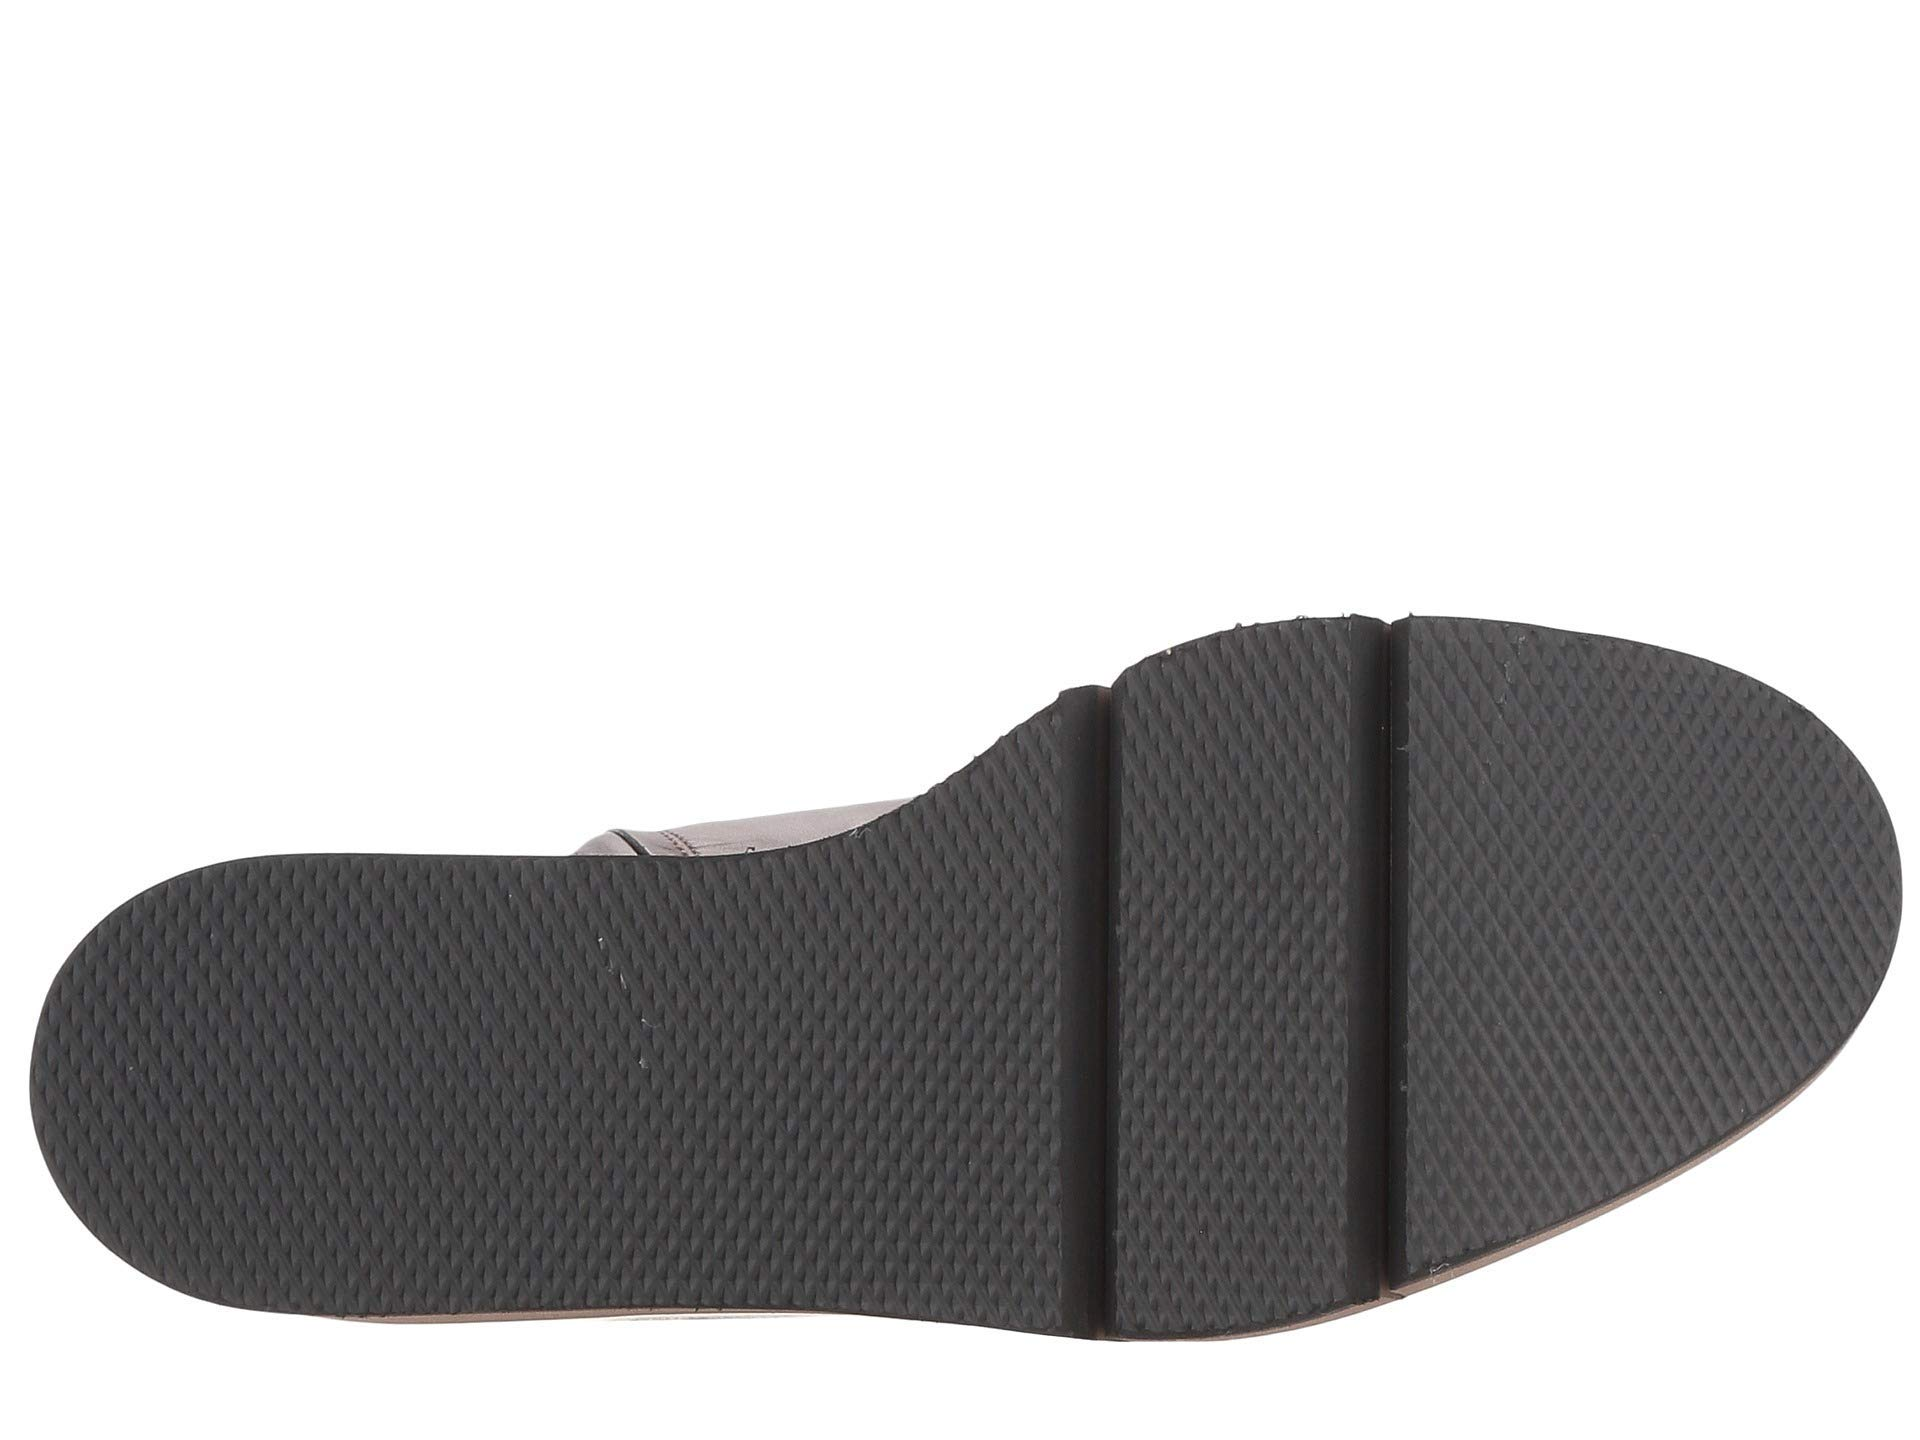line: (1014, 805, 1429, 1183)
quad: (454, 891, 904, 1290), (1014, 805, 1429, 1183), (1426, 702, 1755, 1047), (130, 927, 438, 1278), (159, 967, 324, 1125), (447, 1050, 594, 1196), (656, 988, 745, 1091)
